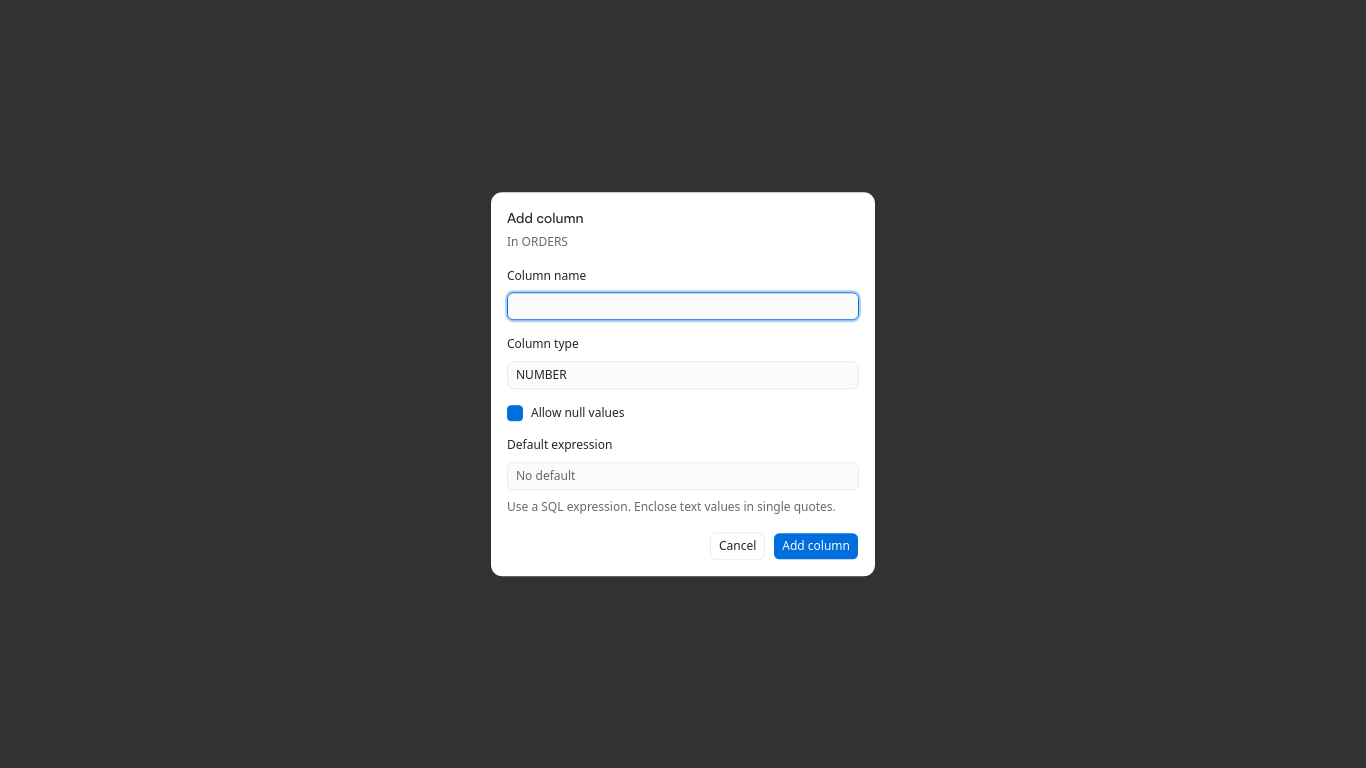
it: ColumnEditDialog › rejects missing names and retains the form for correction
Click the button "Add column": (816, 546) top-left (773, 532), bottom-right (859, 560)
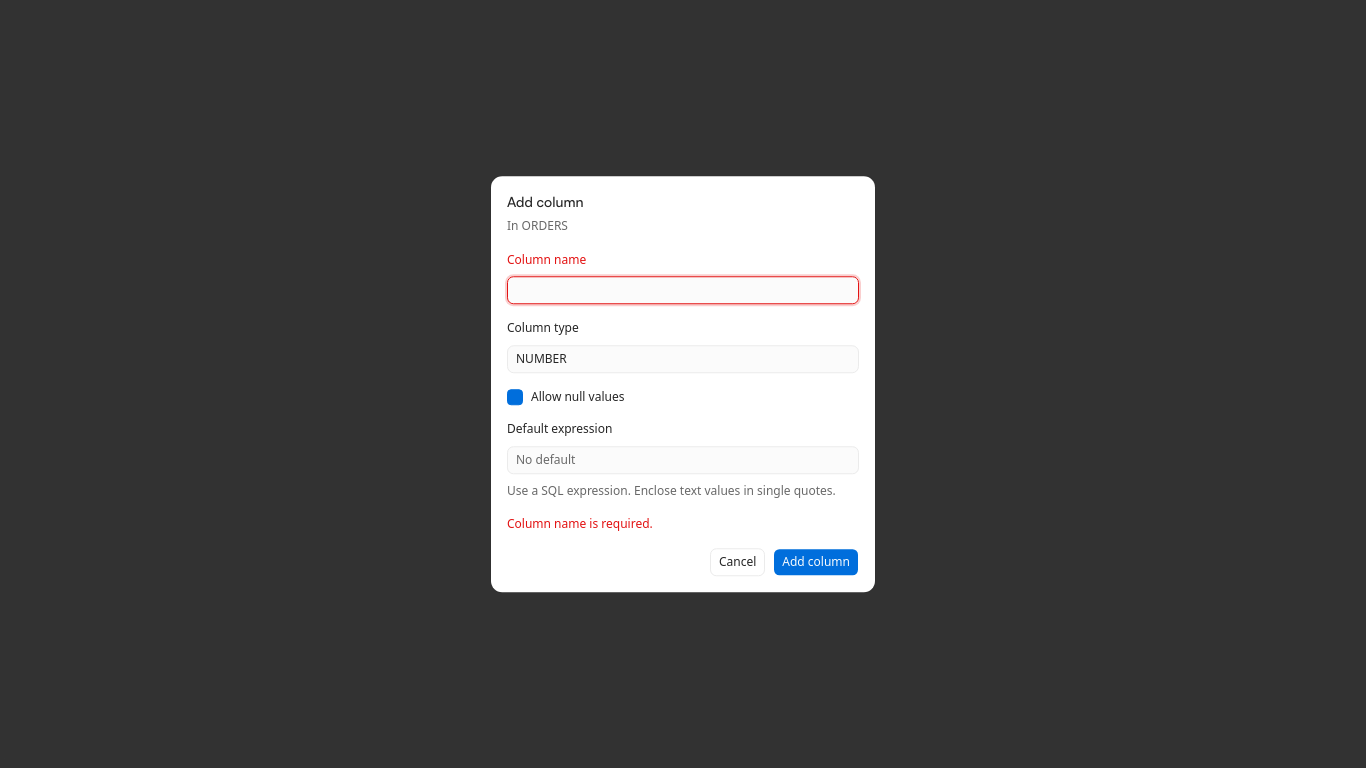
Check: the message reads "Column name is required.", box top-left (507, 515), bottom-right (653, 532)
